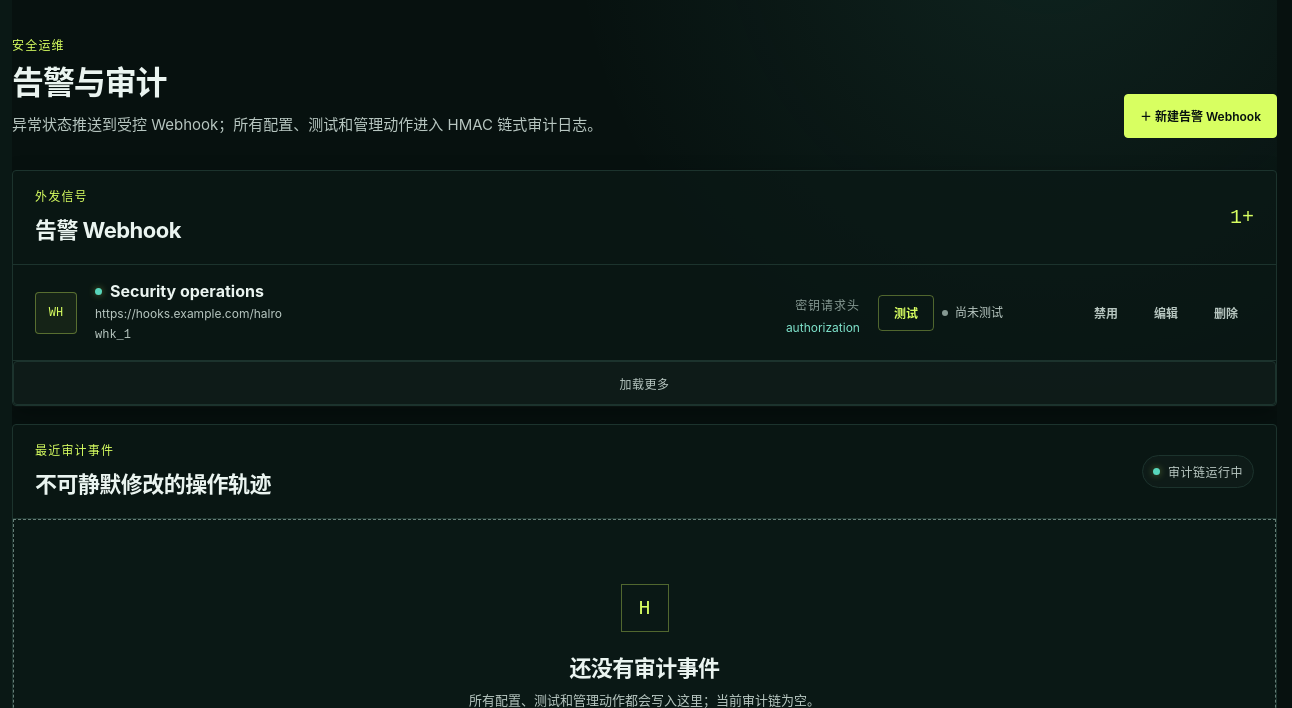
Test: operations page › follows next_cursor so a webhook past the first page stays manageable
Step 1. Click the button "加载更多" → coordinates (644, 383), box [13, 361, 1276, 405]
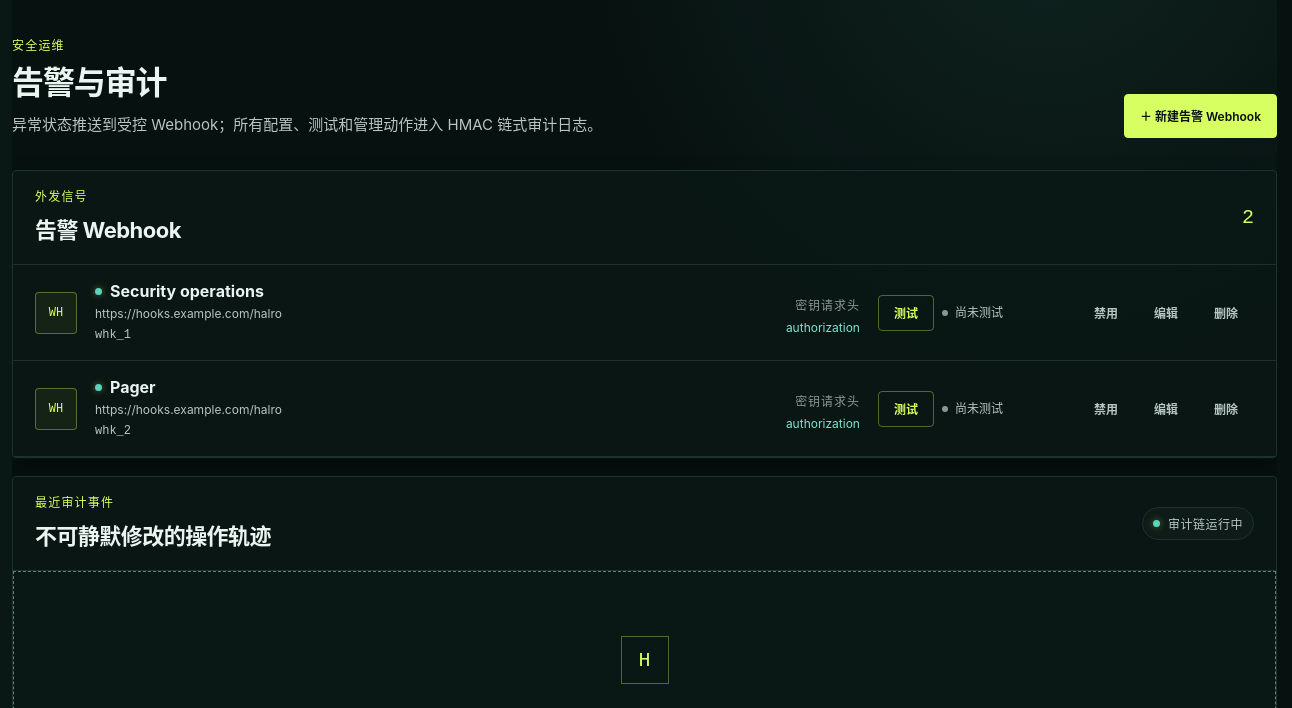
Check: the text "Pager" is shown, box [110, 377, 156, 397]
